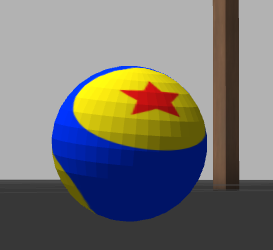toy story ball: (52, 66, 207, 222)
